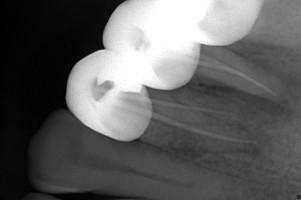Dental Caries: (227, 41, 301, 109), (185, 75, 293, 120)
